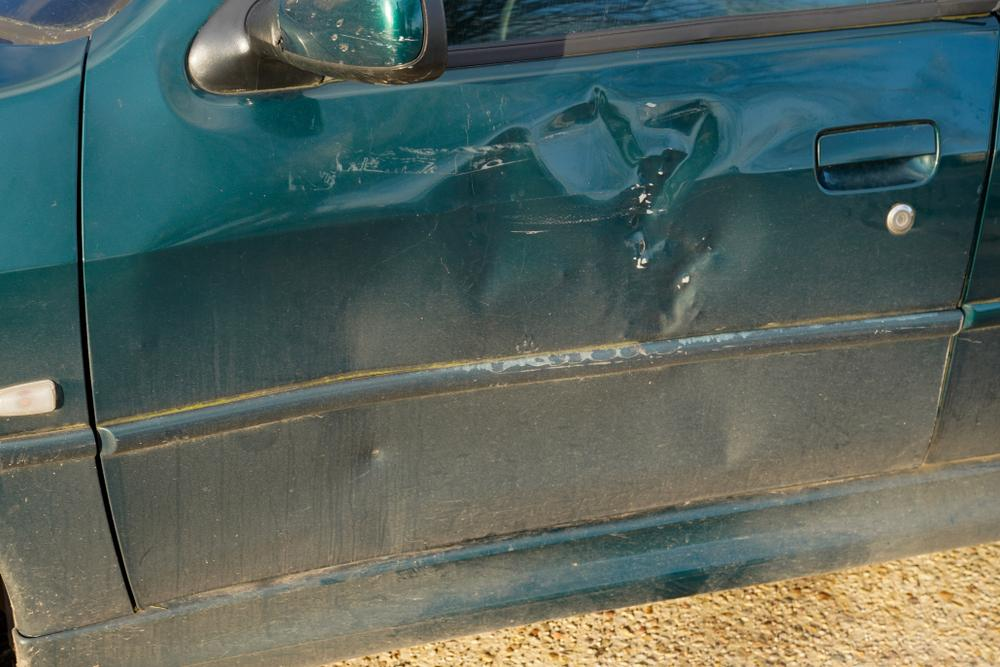dent: (134, 83, 811, 374), (356, 439, 390, 470), (710, 434, 739, 467)
